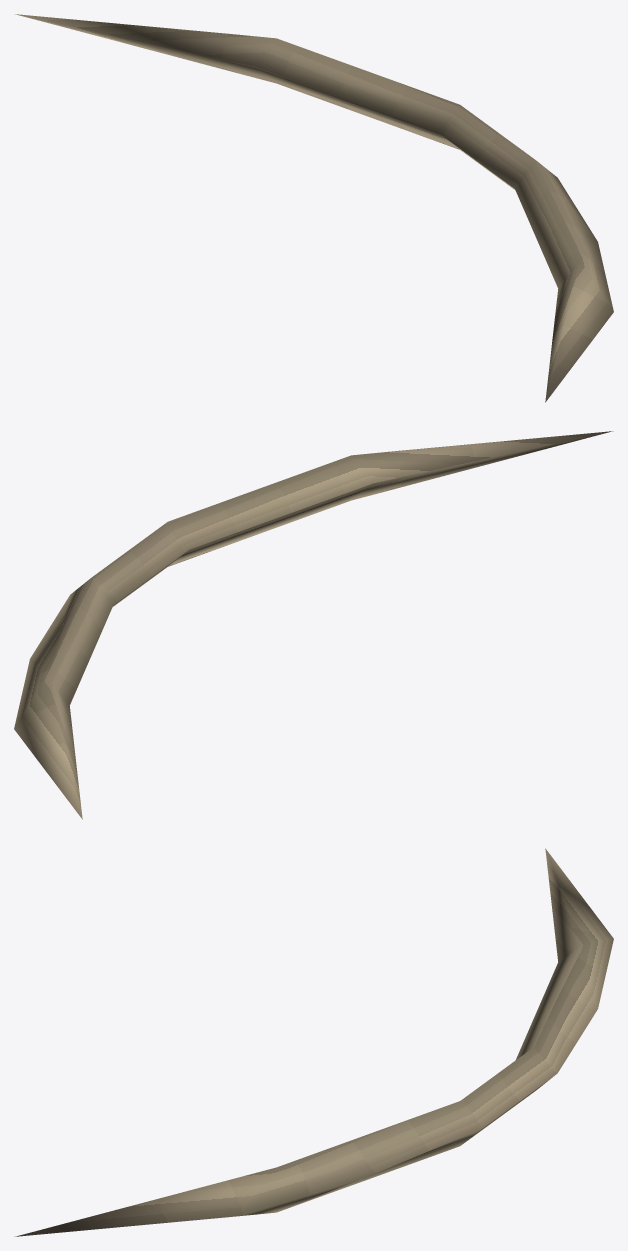
The model's file is bow.DAE.
3 views of the same model, one above another, from view 1: azimuth 30°, elevation 25°; view 2: azimuth 150°, elevation 25°; view 3: azimuth 330°, elevation 25° (orthographic).
Visible parts, largest first — view 1: Box001; view 2: Box001; view 3: Box001.
Boxes of the visible parts, left/top/right/bottom form: Box001: left=14, top=14, right=613, bottom=402; Box001: left=14, top=431, right=613, bottom=819; Box001: left=14, top=848, right=613, bottom=1236.
Size of the model in its own units: 22.22 by 85.15 by 4.
